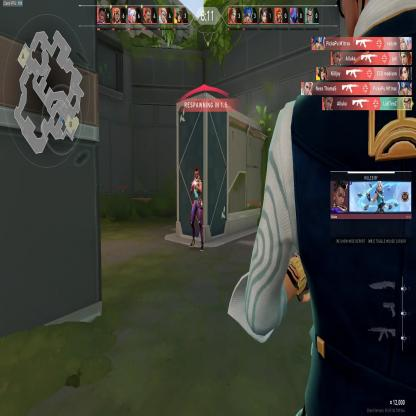enemy: (188, 164, 204, 253)
